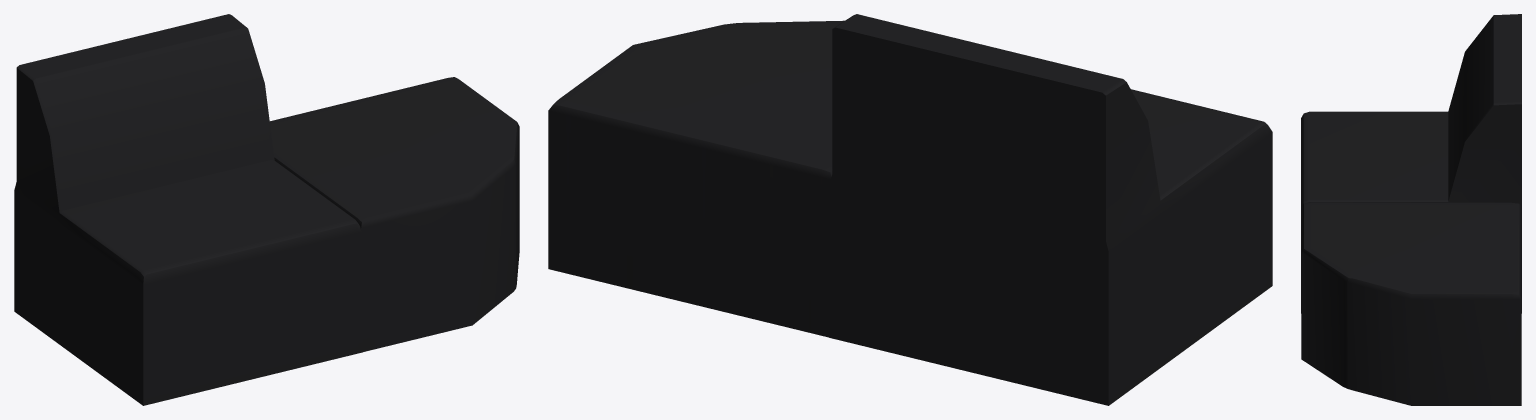
The model's file is small_sofa1.fbx.
The picture shows the model from 3 angles, left to right: view 1: azimuth 30°, elevation 25°; view 2: azimuth 150°, elevation 25°; view 3: azimuth 270°, elevation 25°; orthographic projection. The views are drawn at different scales.
Visible parts, largest first — view 1: small_sofa1; view 2: small_sofa1; view 3: small_sofa1.
Part boxes in pixels (x1,y1,x2,y2): small_sofa1: (14,14,519,405); small_sofa1: (548,14,1272,405); small_sofa1: (1301,14,1521,405).
Bounding box in the file's own units: 0.011 × 0.00587 × 0.0056.
1 material, 1 textured.
